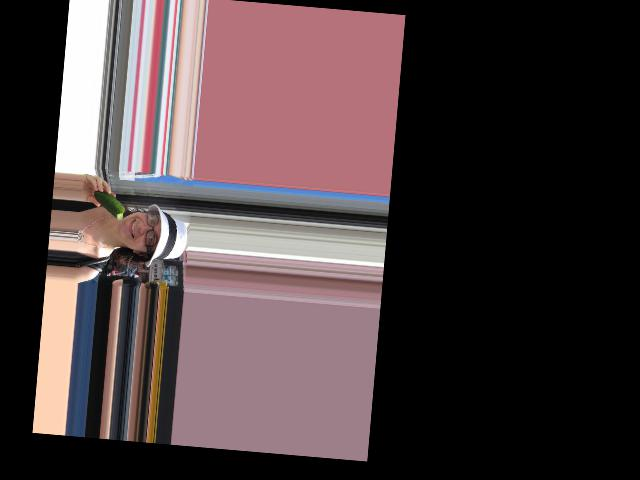cucumber: (91, 189, 126, 220)
